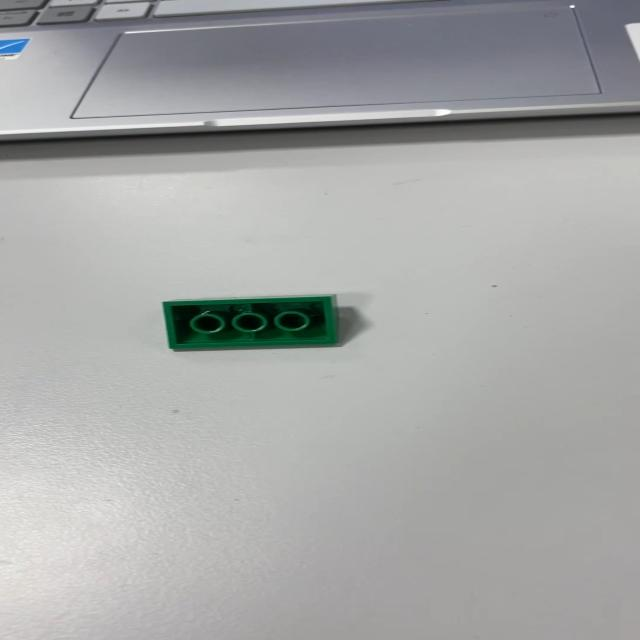P4x2x1: (160, 293, 340, 351)
